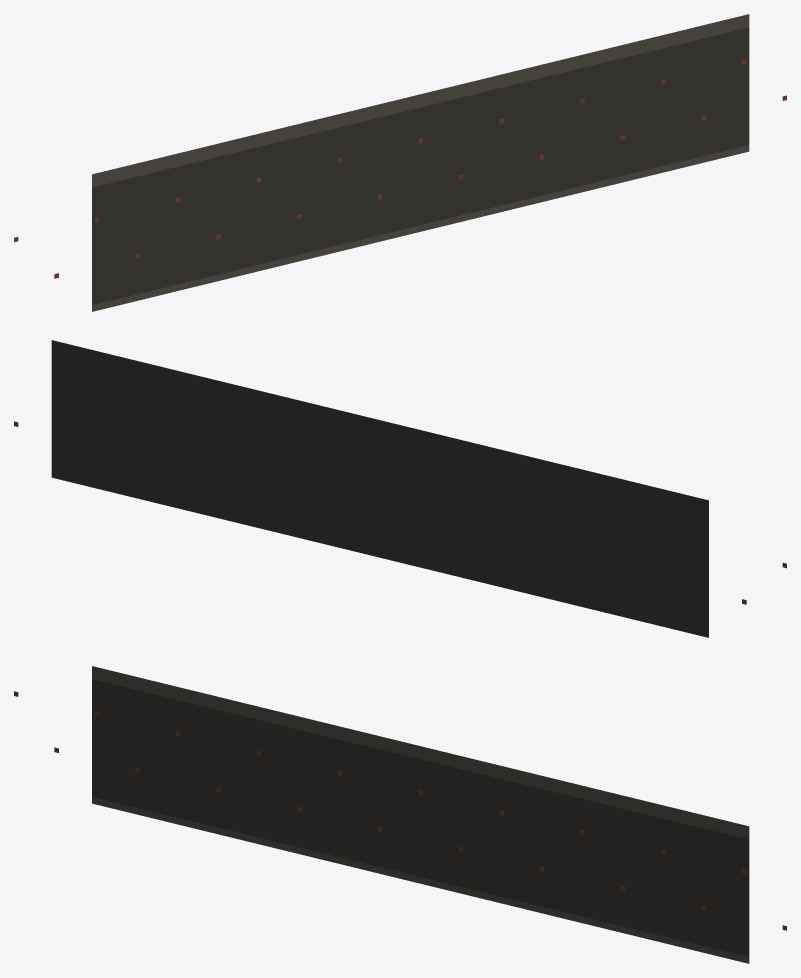
Rendered from slab_bunker_concrete_normal.glb.
3 renders of one model, top to bottom at view 1: azimuth 30°, elevation 25°; view 2: azimuth 150°, elevation 25°; view 3: azimuth 330°, elevation 25°, orthographic.
Parts seen in each view (by area): view 1: slab_bunker_concrete_normal; view 2: slab_bunker_concrete_normal; view 3: slab_bunker_concrete_normal.
Part boxes in pixels (<box>): slab_bunker_concrete_normal: <box>14,14,786,311</box>; slab_bunker_concrete_normal: <box>14,340,786,637</box>; slab_bunker_concrete_normal: <box>14,666,786,963</box>.
Size of the model in its own units: 6.12 by 1.04 by 0.0003.
Materials: 1 (1 with a texture image).
